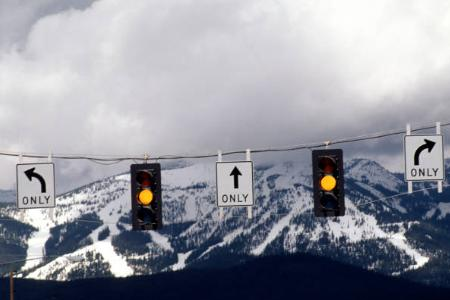yellow_light: (311, 149, 346, 217), (131, 163, 163, 230)
